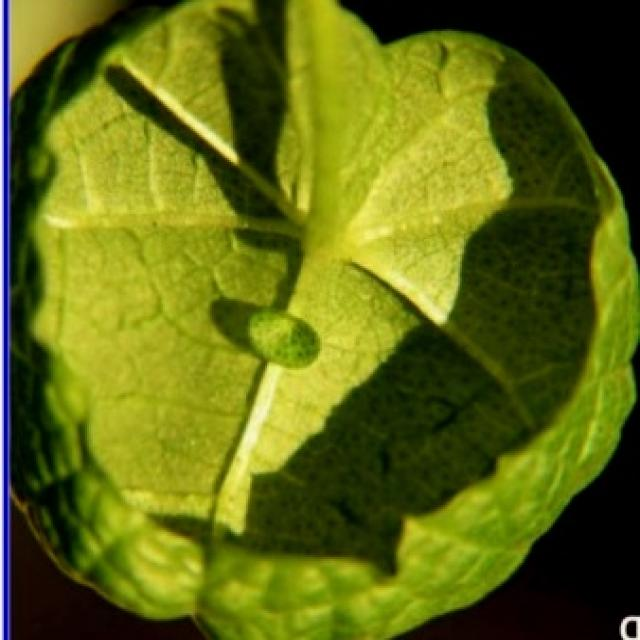Leaf Curl Virus: (54, 27, 588, 613)
